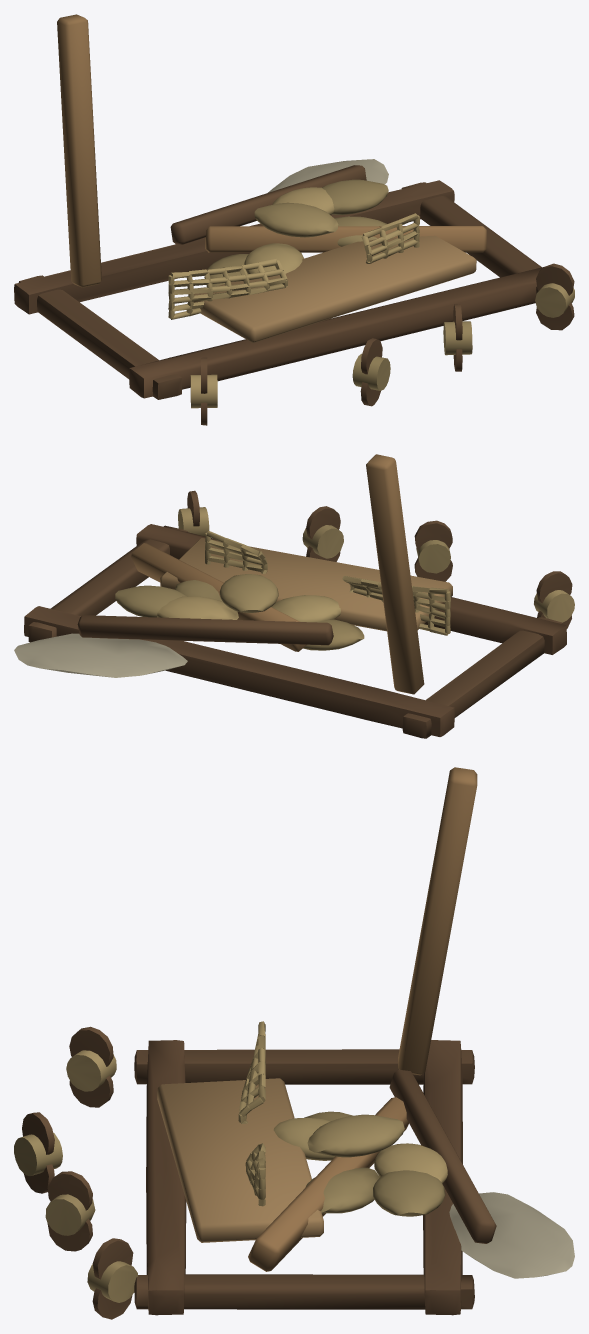
Rendered from loom_frame_c_lod1.glb.
3 renders of one model, top to bottom at view 1: azimuth 30°, elevation 25°; view 2: azimuth 150°, elevation 25°; view 3: azimuth 270°, elevation 25°, orthographic. The views are drawn at different scales.
Parts seen in each view (by area): view 1: Surface.001; view 2: Surface.001; view 3: Surface.001.
Part boxes in pixels (box(x1,y1,x2,y2)): Surface.001: box(14, 14, 574, 425); Surface.001: box(14, 454, 574, 738); Surface.001: box(14, 767, 574, 1319).
Size of the model in its own units: 5.6 by 3.6 by 5.27.
